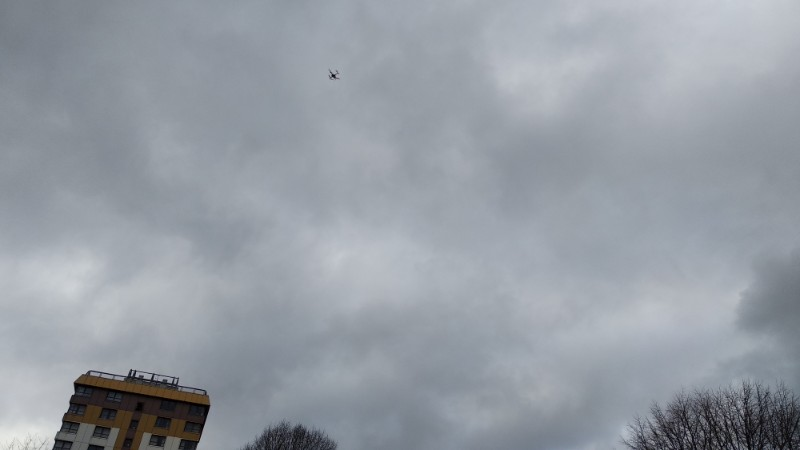drone: (328, 70, 342, 82)
